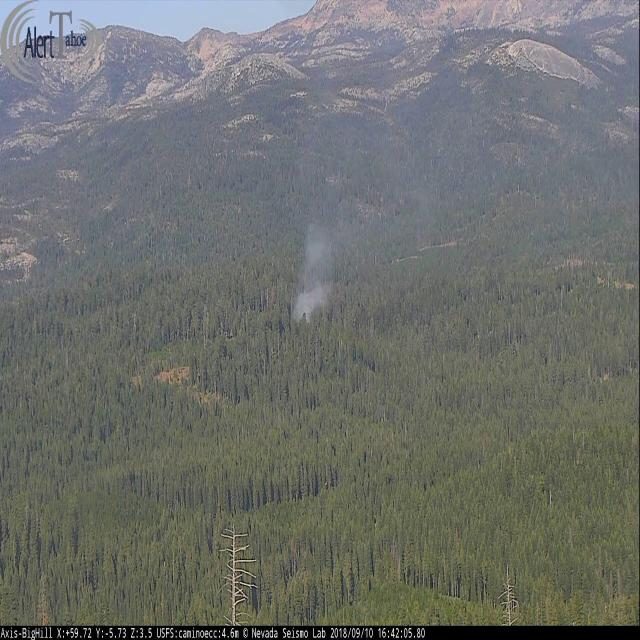smoke: (289, 45, 545, 327)
